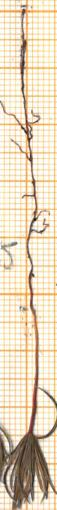flower: (0, 424, 57, 510)
root: (0, 3, 52, 305)
stem: (24, 306, 47, 431)
